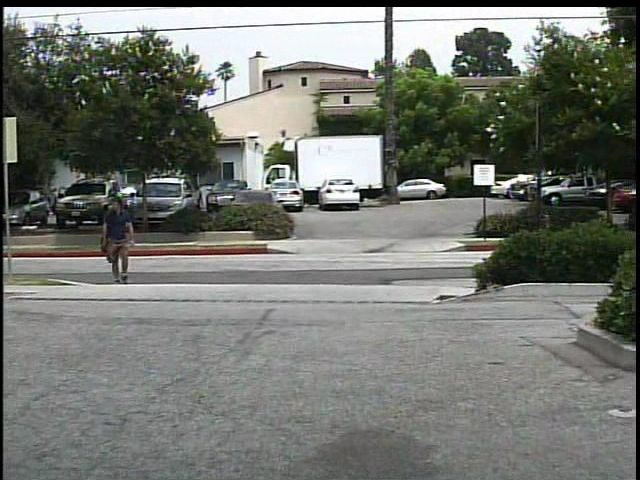person: (98, 195, 140, 285)
